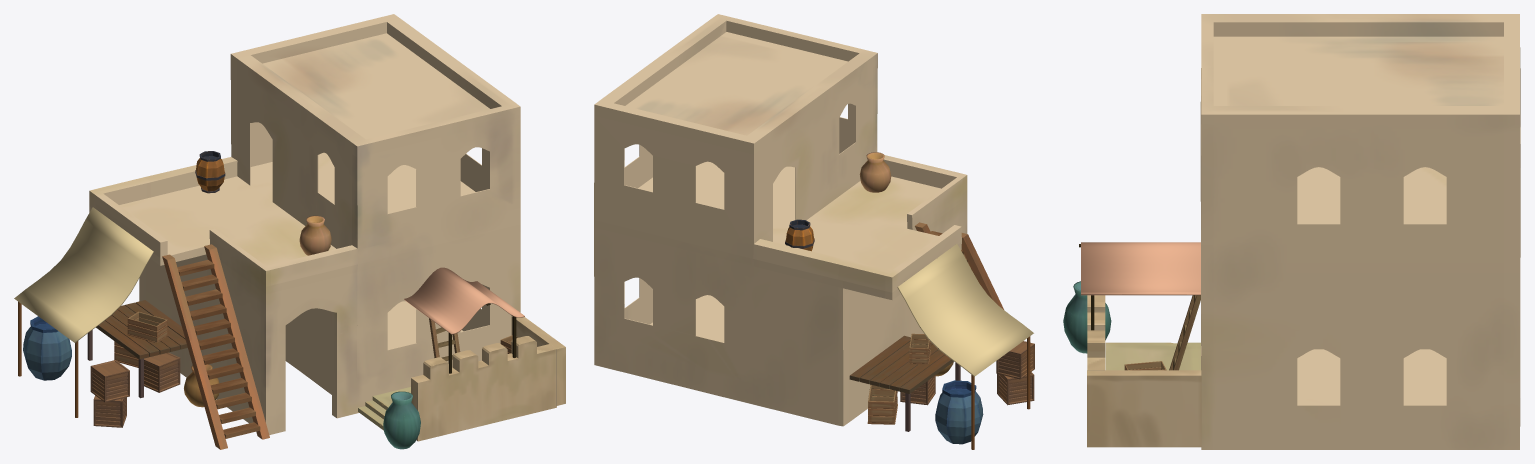
3 renders of one model, left to right at view 1: azimuth 30°, elevation 25°; view 2: azimuth 150°, elevation 25°; view 3: azimuth 270°, elevation 25°, orthographic. The views are drawn at different scales.
Visible parts, largest first — view 1: ev, tente1, merdiven, tente2, masa, fıcı3, fıcı5, kasa, kasa.002, fıcı1, kasa2.002, fıcı2 (+3 smaller); view 2: ev, tente1, masa, fıcı3, kasa2.001, merdiven, fıcı2, kasa, kasa.001, fıcı1, kasa2.002, tente1_cubuk (+1 smaller); view 3: ev, tente2, fıcı5, kucuk_merdiven.
Part boxes in pixels (x1,y1,x2,y2): ev: [89, 14, 565, 441]; tente1: [14, 207, 153, 342]; merdiven: [162, 244, 269, 449]; tente2: [404, 267, 524, 334]; masa: [96, 300, 200, 359]; fıcı3: [23, 316, 71, 380]; fıcı5: [383, 391, 420, 449]; kasa: [90, 360, 129, 402]; kasa.002: [144, 352, 180, 392]; fıcı1: [195, 151, 225, 193]; kasa2.002: [127, 311, 167, 342]; fıcı2: [299, 215, 331, 255]; ev: [594, 14, 967, 426]; tente1: [897, 244, 1033, 376]; masa: [849, 335, 953, 393]; fıcı3: [935, 380, 983, 444]; kasa2.001: [867, 384, 897, 424]; merdiven: [915, 222, 1003, 309]; fıcı2: [859, 152, 891, 192]; kasa: [996, 341, 1034, 379]; kasa.001: [997, 372, 1034, 405]; fıcı1: [785, 219, 814, 251]; kasa2.002: [909, 333, 930, 364]; tente1_cubuk: [971, 336, 1030, 449]; ev: [1087, 14, 1520, 449]; tente2: [1081, 242, 1200, 295]; fıcı5: [1063, 281, 1111, 353]; kucuk_merdiven: [1169, 295, 1200, 370].
Bounding box in the file's own units: 1359 × 902 × 1110.
16 materials, 11 textured.
